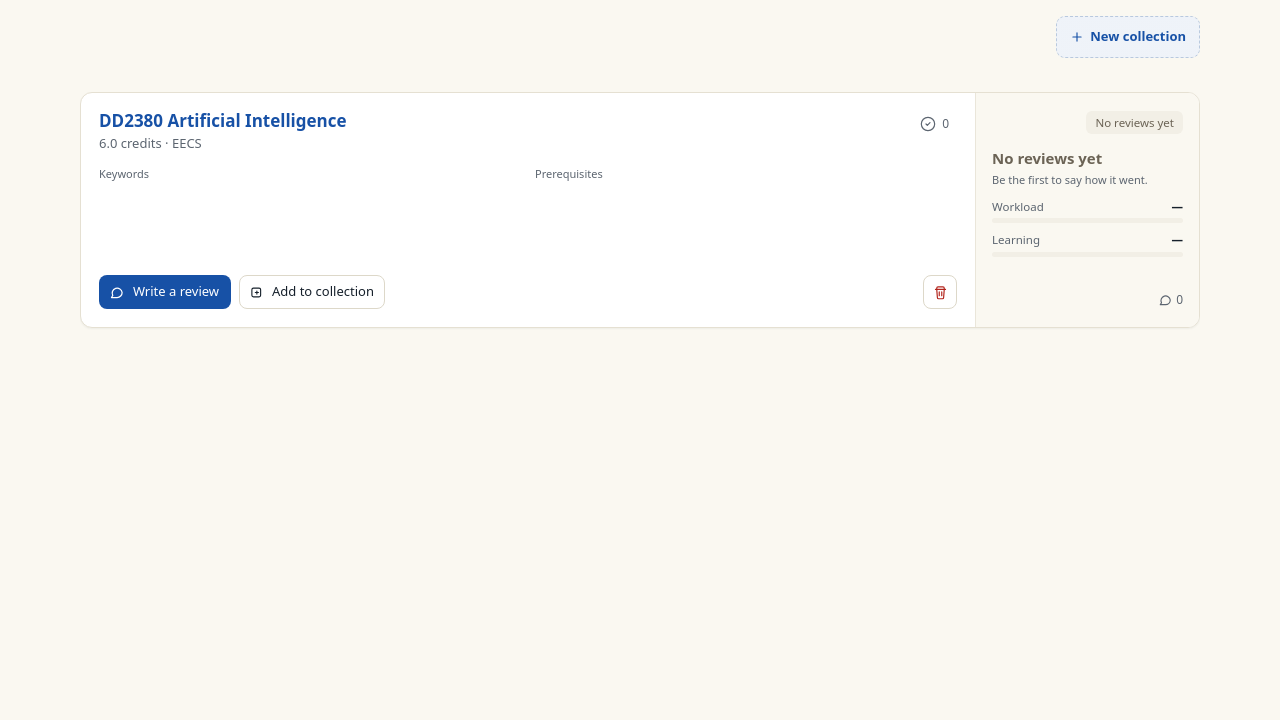
Saved › unsaving › names the collections it cascades, and clears reviews and taken
Click the button named "Remove DD2380 from saved courses". click: (940, 292)
box: left=923, top=275, right=957, bottom=309
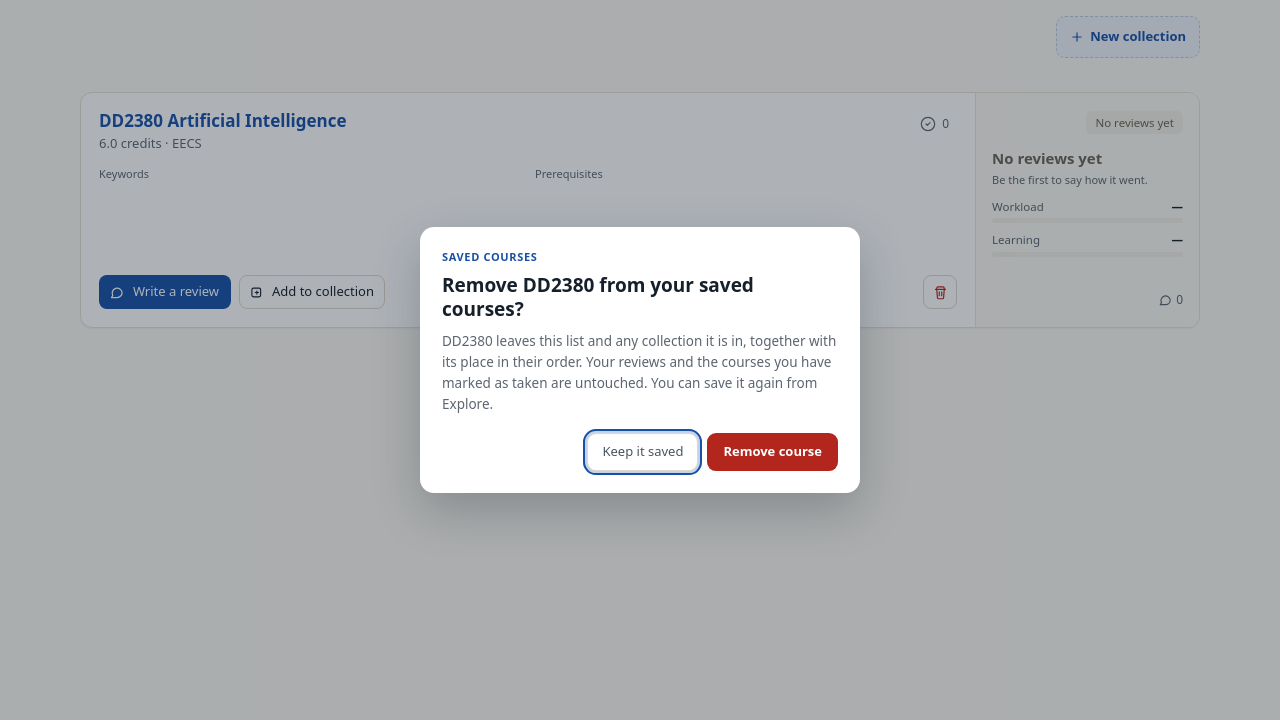
Now the text "leaves this list and any collection" shows "reviews and the courses you have marked as taken are untouched", box left=442, top=332, right=836, bottom=413
